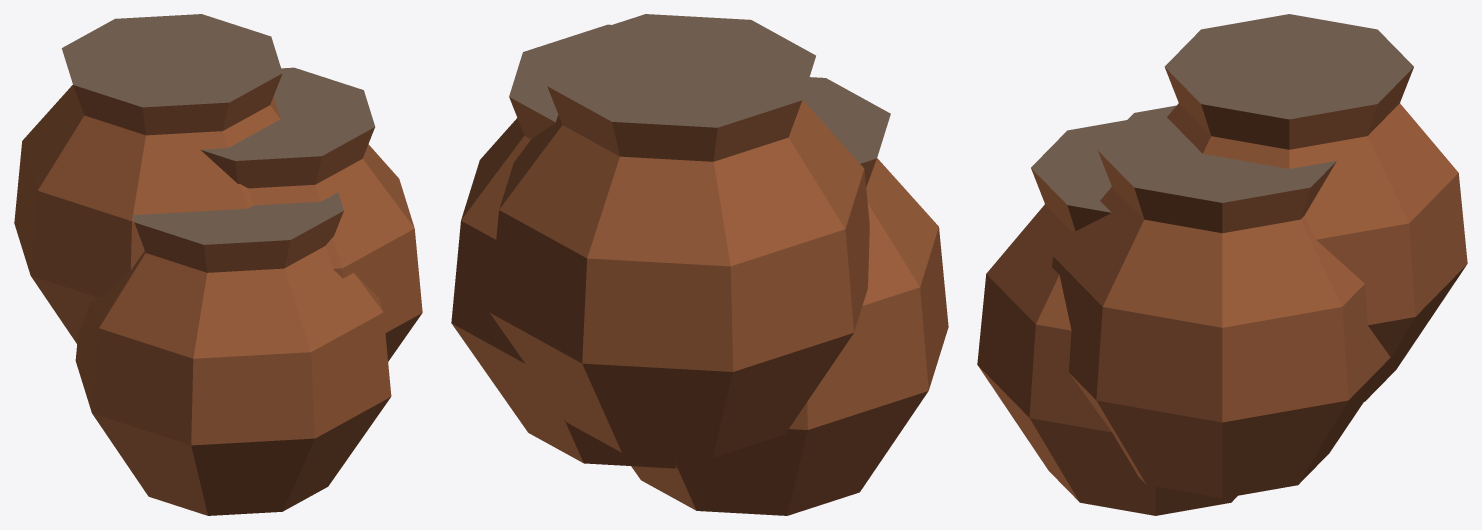
The model's file is w3d_item_clay_pot_m.glb.
The picture shows the model from 3 angles, left to right: view 1: azimuth 30°, elevation 25°; view 2: azimuth 150°, elevation 25°; view 3: azimuth 270°, elevation 25°; orthographic projection. The views are drawn at different scales.
Parts seen in each view (by area): view 1: item_009_clay_pot_m; view 2: item_009_clay_pot_m; view 3: item_009_clay_pot_m.
Part boxes in pixels (<box>): item_009_clay_pot_m: <box>14,14,422,515</box>; item_009_clay_pot_m: <box>451,14,948,515</box>; item_009_clay_pot_m: <box>977,14,1467,515</box>.
Size of the model in its own units: 0.39 by 0.4 by 0.44.
